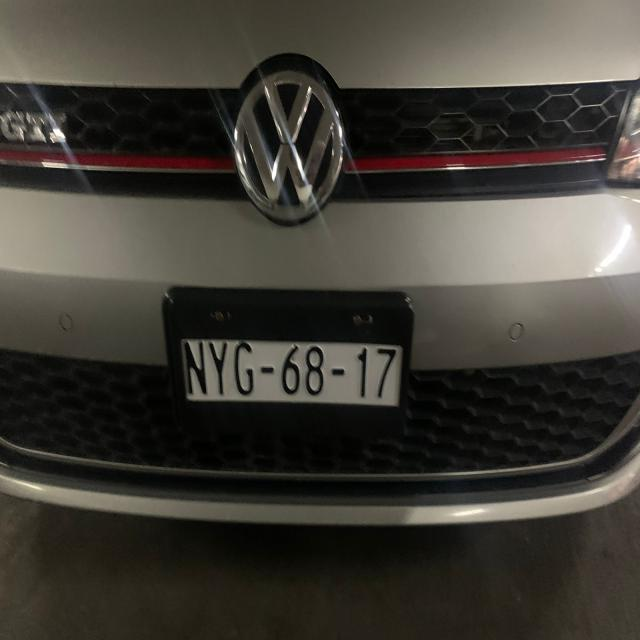placa: (179, 325, 404, 418)
